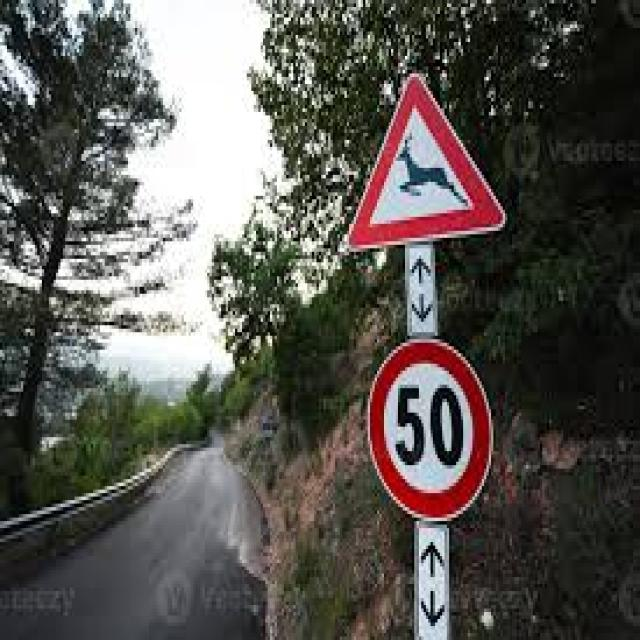Speed limit 50: (364, 333, 497, 522)
